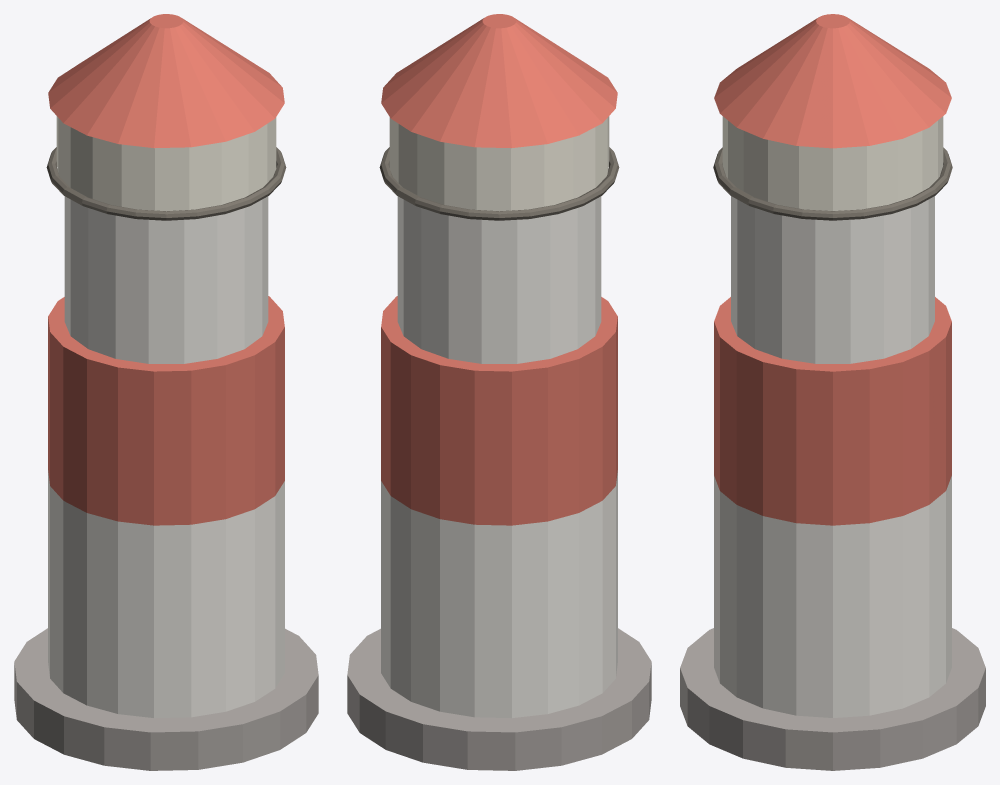
The model's file is Lighthouse.fbx.
The picture shows the model from 3 angles, left to right: view 1: azimuth 30°, elevation 25°; view 2: azimuth 150°, elevation 25°; view 3: azimuth 270°, elevation 25°; orthographic projection.
Parts seen in each view (by area): view 1: Lighthouse; view 2: Lighthouse; view 3: Lighthouse.
Part boxes in pixels (x1,y1,x2,y2): Lighthouse: [14, 14, 318, 770]; Lighthouse: [347, 14, 651, 770]; Lighthouse: [680, 14, 985, 770].
Size of the model in its own units: 3.6 by 8.9 by 3.6.
